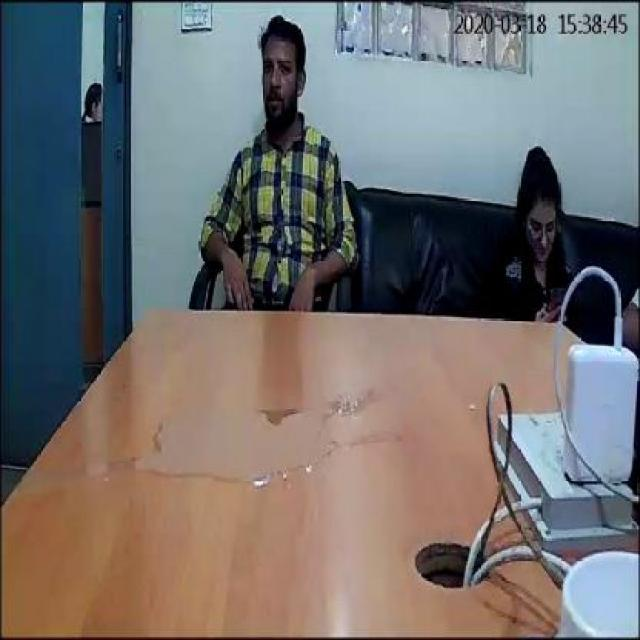spill: (66, 386, 380, 483)
